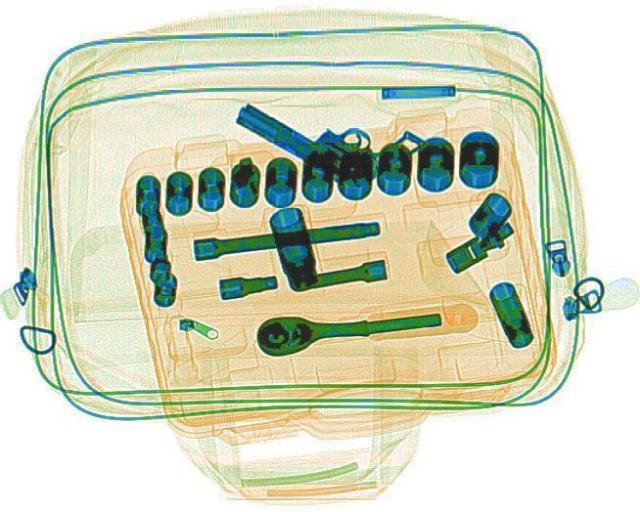Gun: (227, 63, 431, 196)
